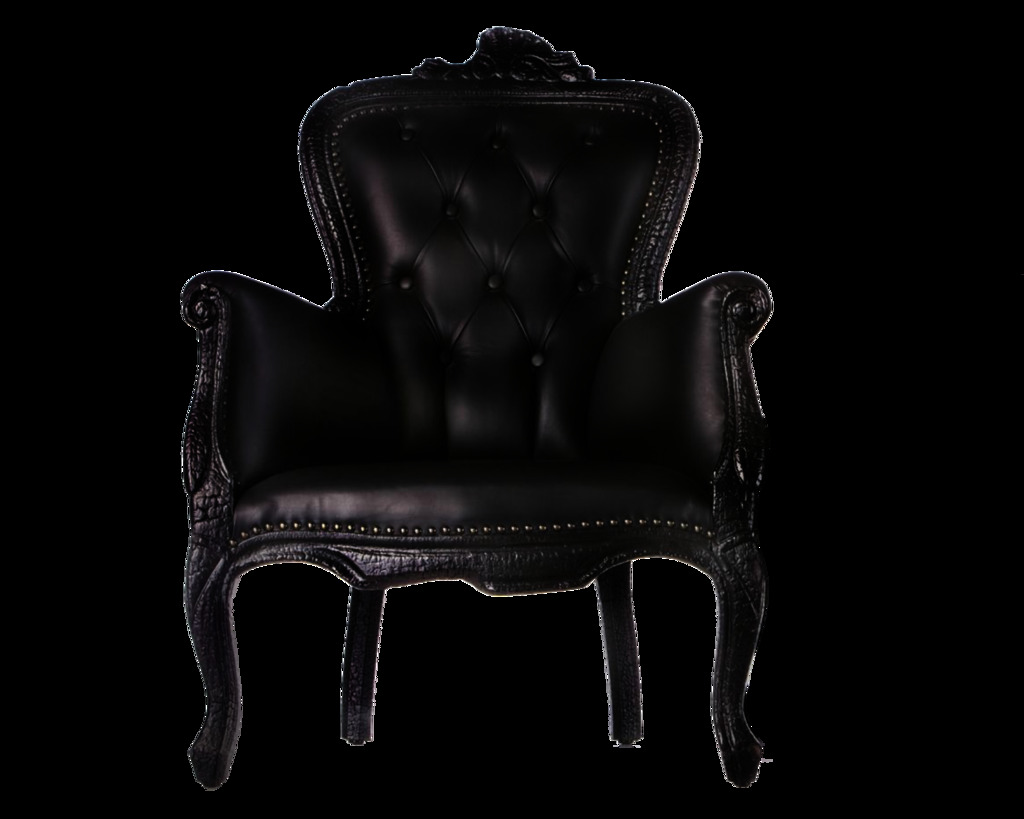chairs: (150, 29, 794, 799)
